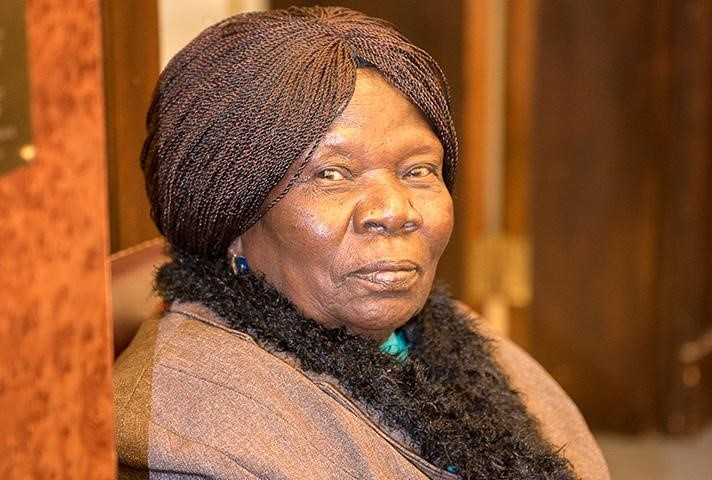face_no_mask: (149, 8, 458, 328)
